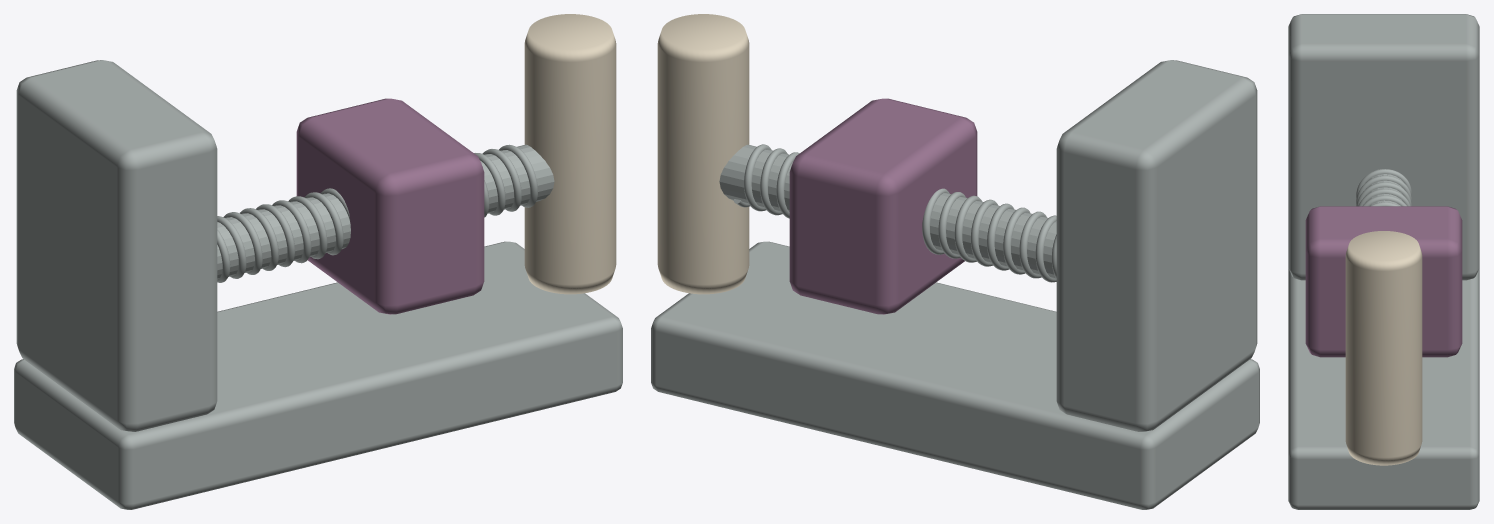
File: museum-conservation-and-art-restoration-museum-conserv-326b4c17__31881.glb
The picture shows the model from 3 angles, left to right: view 1: azimuth 30°, elevation 25°; view 2: azimuth 150°, elevation 25°; view 3: azimuth 270°, elevation 25°; orthographic projection. The views are drawn at different scales.
Parts seen in each view (by area): view 1: museum-conservation-and-art-restoration-adjustable-corner-te (×3); view 2: museum-conservation-and-art-restoration-adjustable-corner-te (×3); view 3: museum-conservation-and-art-restoration-adjustable-corner-te (×3).
Part boxes in pixels (box(x1,y1,x2,y2)): museum-conservation-and-art-restoration-adjustable-corner-te (×3): box(14, 14, 622, 509); museum-conservation-and-art-restoration-adjustable-corner-te (×3): box(651, 14, 1259, 509); museum-conservation-and-art-restoration-adjustable-corner-te (×3): box(1288, 14, 1479, 509).
Bounding box in the file's own units: 0.302 × 0.19 × 0.11.
